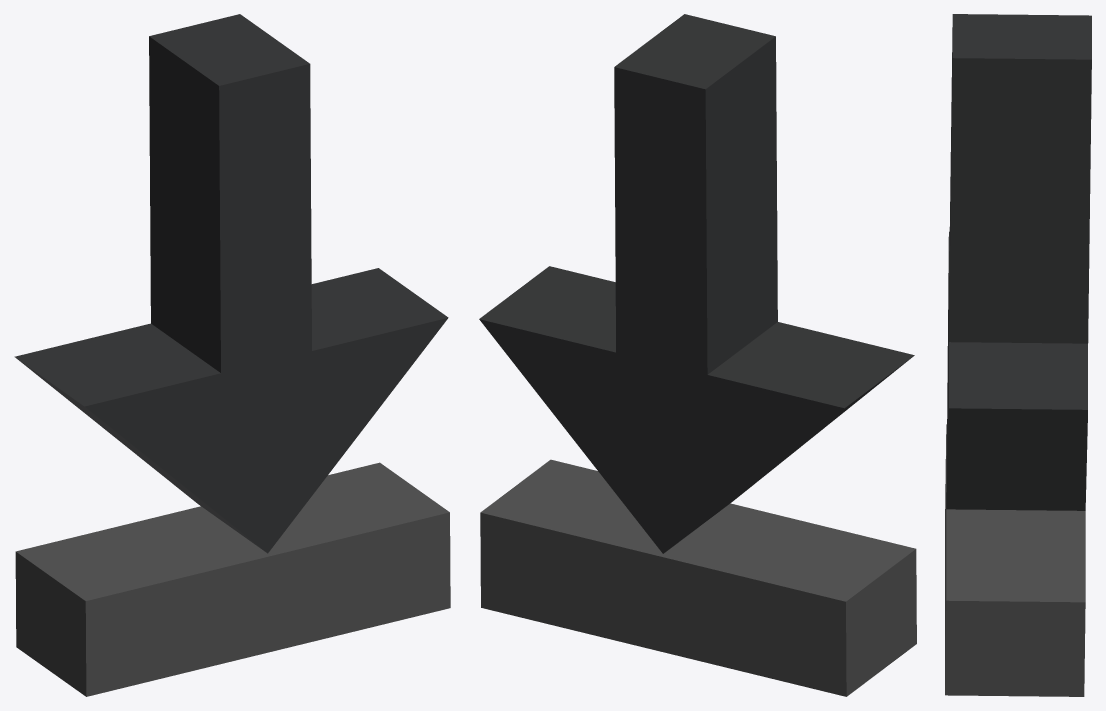
File: update.glb
3 views of the same model, side by side, from view 1: azimuth 30°, elevation 25°; view 2: azimuth 150°, elevation 25°; view 3: azimuth 270°, elevation 25° (orthographic).
Parts seen in each view (by area): view 1: Cube, Cube.001; view 2: Cube, Cube.001; view 3: Cube, Cube.001.
Part boxes in pixels (x1=…): Cube: x1=14, y1=14, x2=448, y2=553; Cube.001: x1=15, y1=462, x2=450, y2=696; Cube: x1=479, y1=14, x2=914, y2=553; Cube.001: x1=480, y1=459, x2=916, y2=696; Cube: x1=946, y1=14, x2=1091, y2=510; Cube.001: x1=945, y1=424, x2=1085, y2=696.
Bounding box in the file's own units: 1.5 × 2.27 × 0.5275.
Materials: 2 (2 with a texture image).
